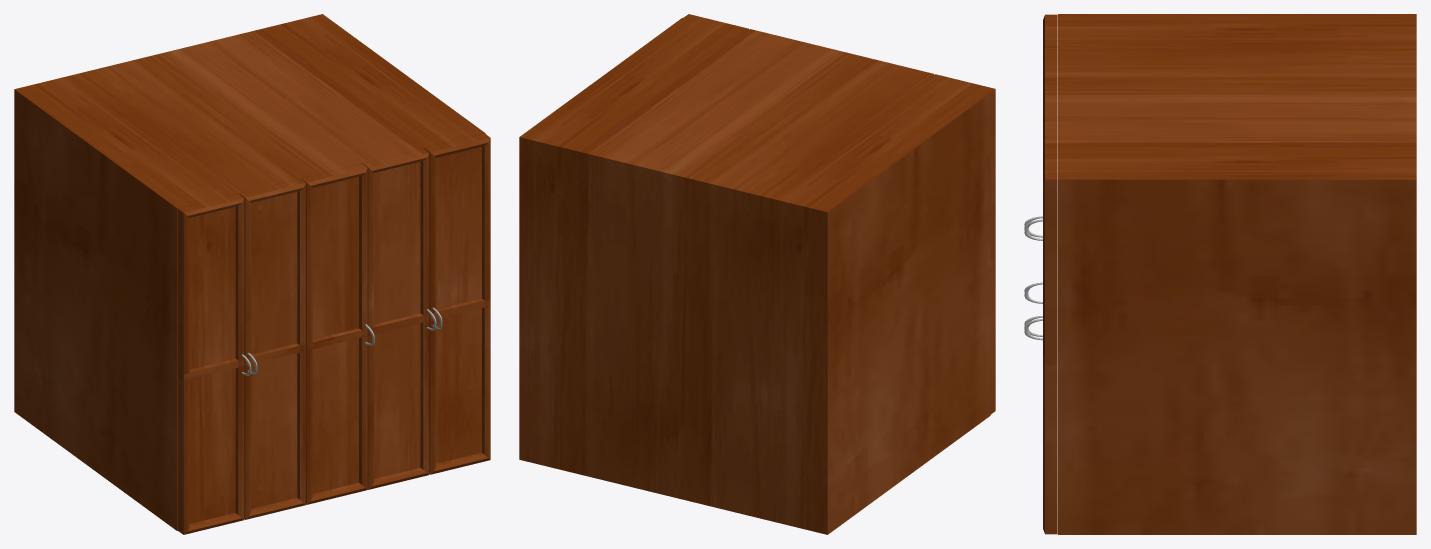
File: sh-scopia-wardrobe1.glb
3 views of the same model, side by side, from view 1: azimuth 30°, elevation 25°; view 2: azimuth 150°, elevation 25°; view 3: azimuth 270°, elevation 25° (orthographic). The views are drawn at different scales.
Parts seen in each view (by area): view 1: wardrobe_Cube.025; view 2: wardrobe_Cube.025; view 3: wardrobe_Cube.025, tira_armario1.002_Cube.027.
Part boxes in pixels (left/top/right/bottom): wardrobe_Cube.025: left=14, top=14, right=490, bottom=534; wardrobe_Cube.025: left=519, top=14, right=995, bottom=534; wardrobe_Cube.025: left=1043, top=14, right=1416, bottom=534; tira_armario1.002_Cube.027: left=1024, top=216, right=1042, bottom=340.
Bounding box in the file's own units: 1 × 1 × 1.
2 materials, 1 textured.
